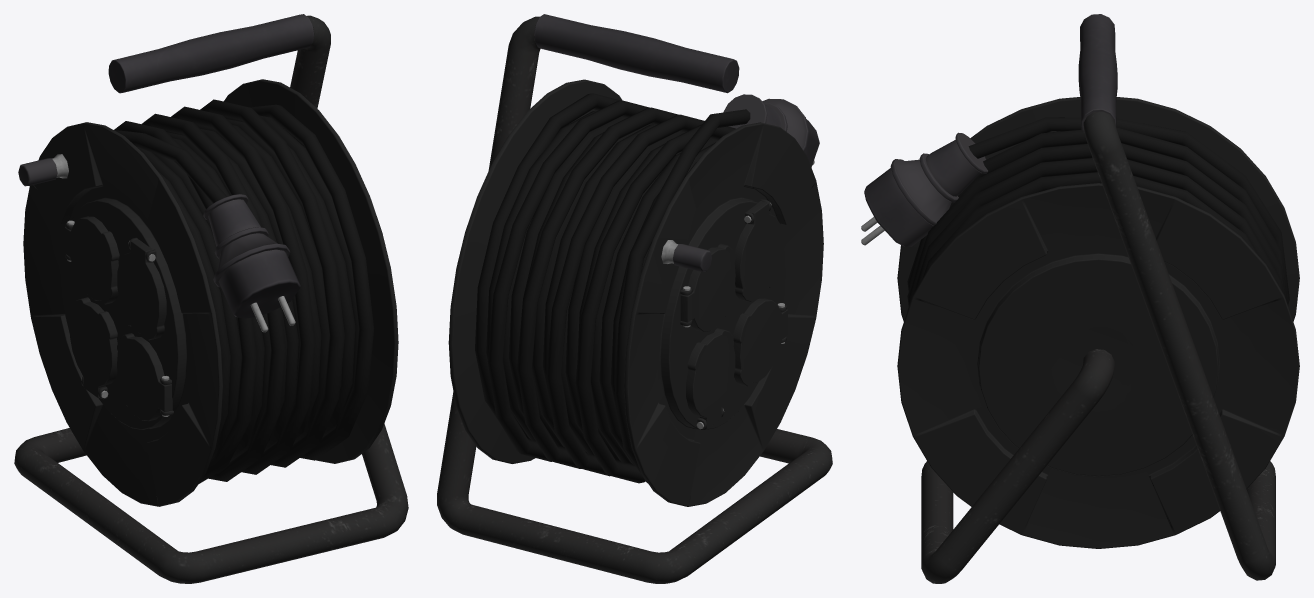
File: SM_CableReel_01.fbx
The picture shows the model from 3 angles, left to right: view 1: azimuth 30°, elevation 25°; view 2: azimuth 150°, elevation 25°; view 3: azimuth 270°, elevation 25°; orthographic projection. The views are drawn at different scales.
Visible parts, largest first — view 1: SM_CableReel_01_LOD0; view 2: SM_CableReel_01_LOD0; view 3: SM_CableReel_01_LOD0.
Part boxes in pixels (x1=…): SM_CableReel_01_LOD0: x1=14, y1=14, x2=408, y2=583; SM_CableReel_01_LOD0: x1=437, y1=14, x2=832, y2=583; SM_CableReel_01_LOD0: x1=861, y1=14, x2=1299, y2=583.
Bounding box in the file's own units: 27.63 × 40.79 × 48.83.
